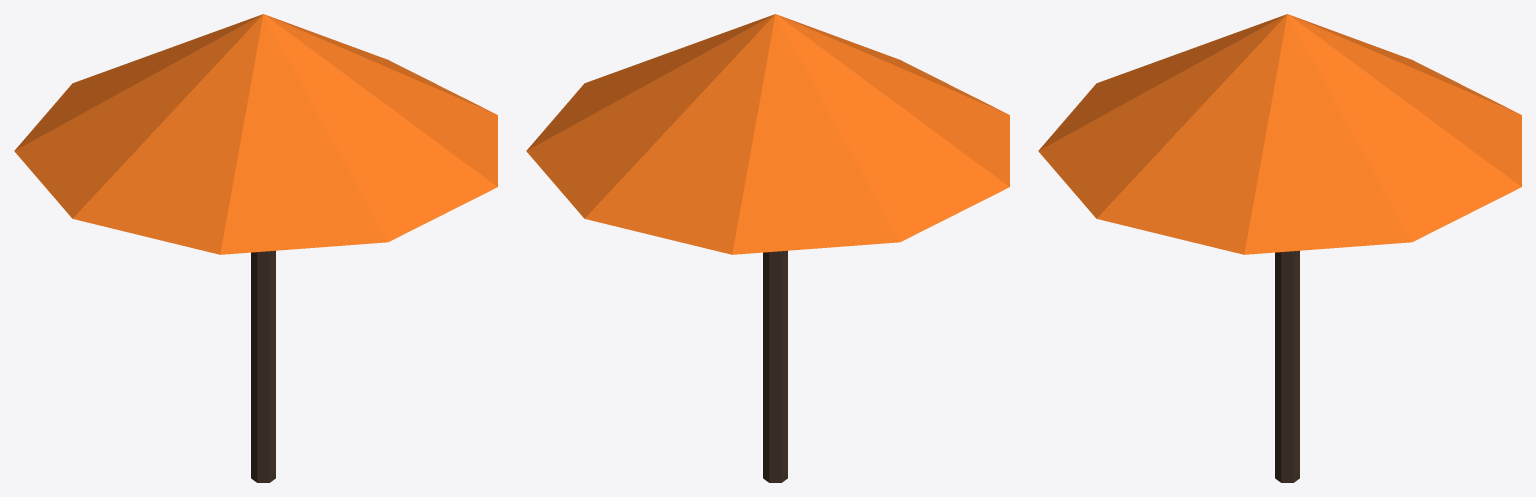
The model's file is beach_sunscreen-tropic.fbx.
3 views of the same model, side by side, from view 1: azimuth 30°, elevation 25°; view 2: azimuth 150°, elevation 25°; view 3: azimuth 270°, elevation 25° (orthographic).
Visible parts, largest first — view 1: beach_sunscreen_tropic; view 2: beach_sunscreen_tropic; view 3: beach_sunscreen_tropic.
Part boxes in pixels (x1,y1,x2,y2): beach_sunscreen_tropic: [14, 14, 497, 482]; beach_sunscreen_tropic: [526, 14, 1009, 482]; beach_sunscreen_tropic: [1038, 14, 1521, 482].
Size of the model in its own units: 192 by 200 by 189.
